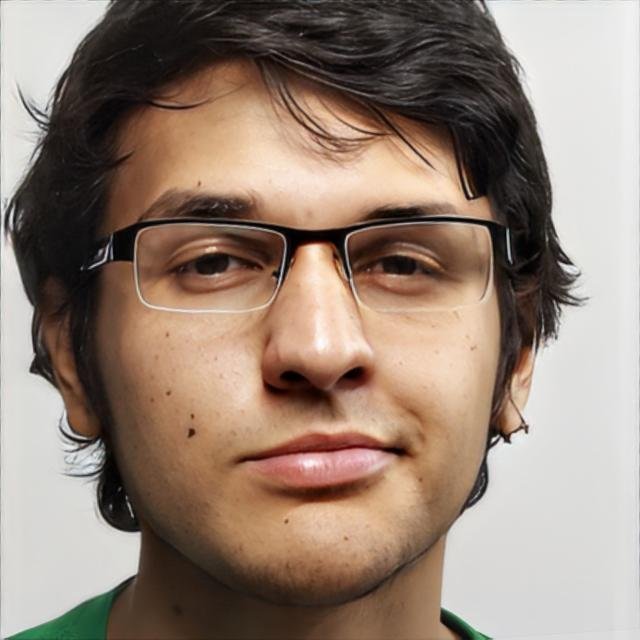content: (92, 45, 504, 607)
